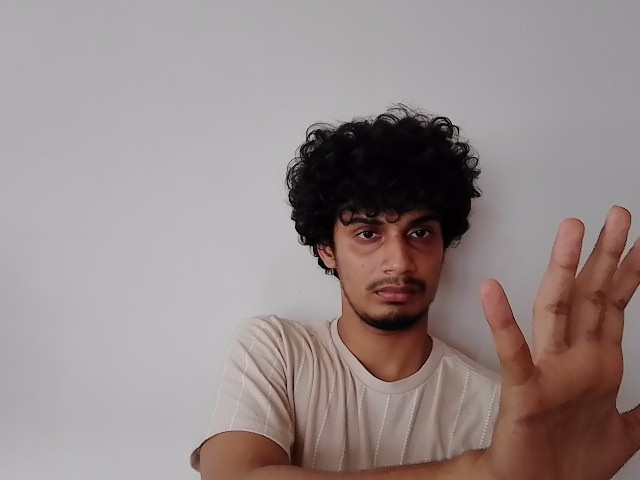goodbye: (480, 206, 640, 480)
